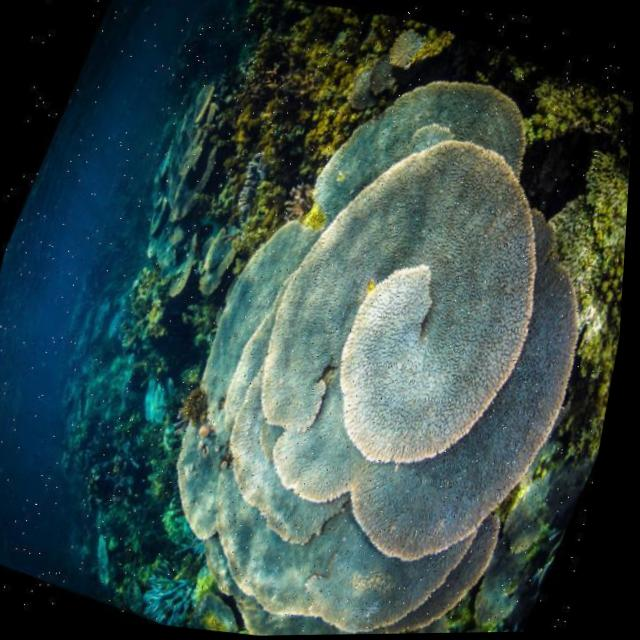Healthy Coral: (86, 19, 639, 639)
